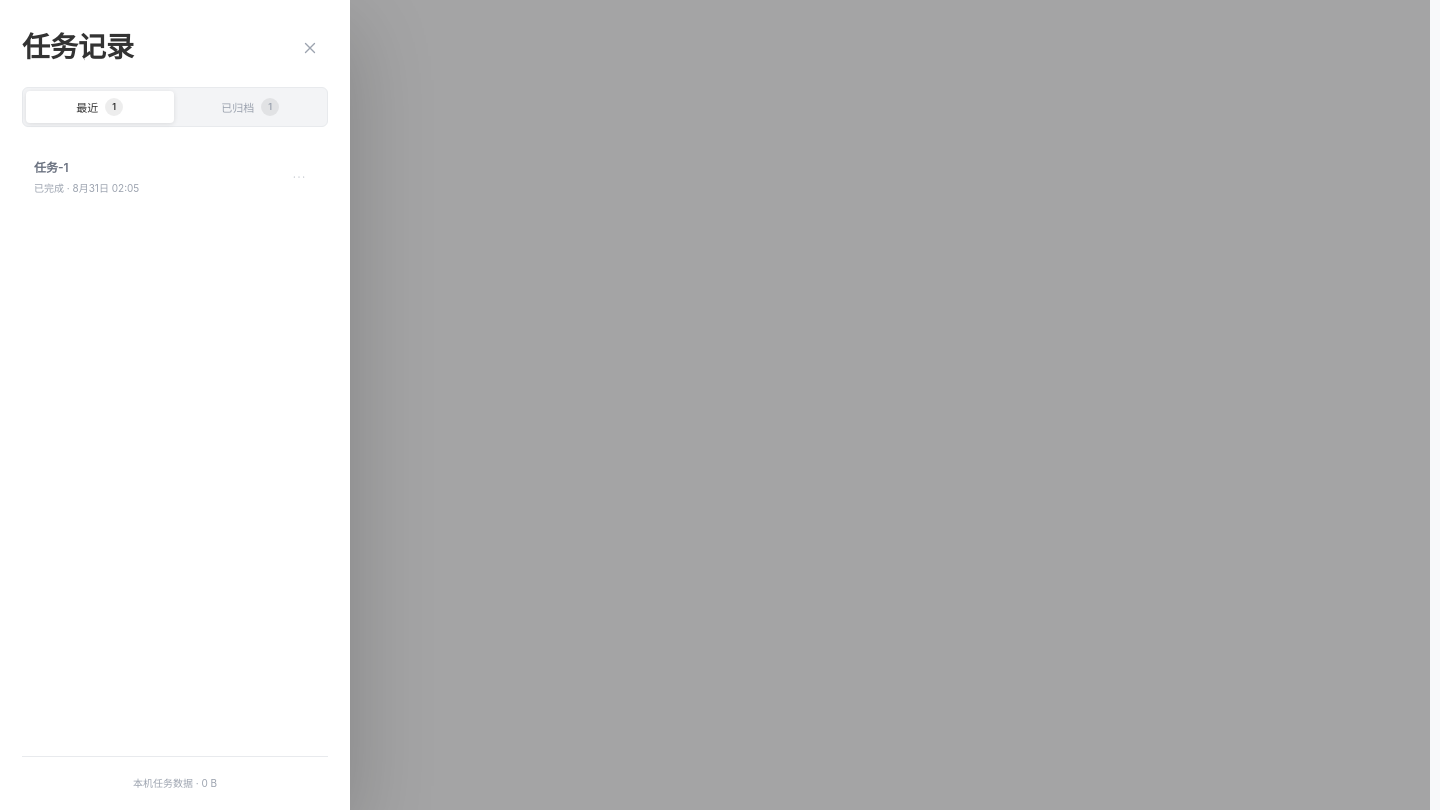
it: 归档与恢复 › 恢复：archived tab 下 POST /api/jobs/{id}/restore + 恢复 toast
Expected: the text "任务-1" is shown, 34,160 -> 69,175
Click the tab "已归档 1" at {"x": 250, "y": 107}, box 176,91 -> 324,123
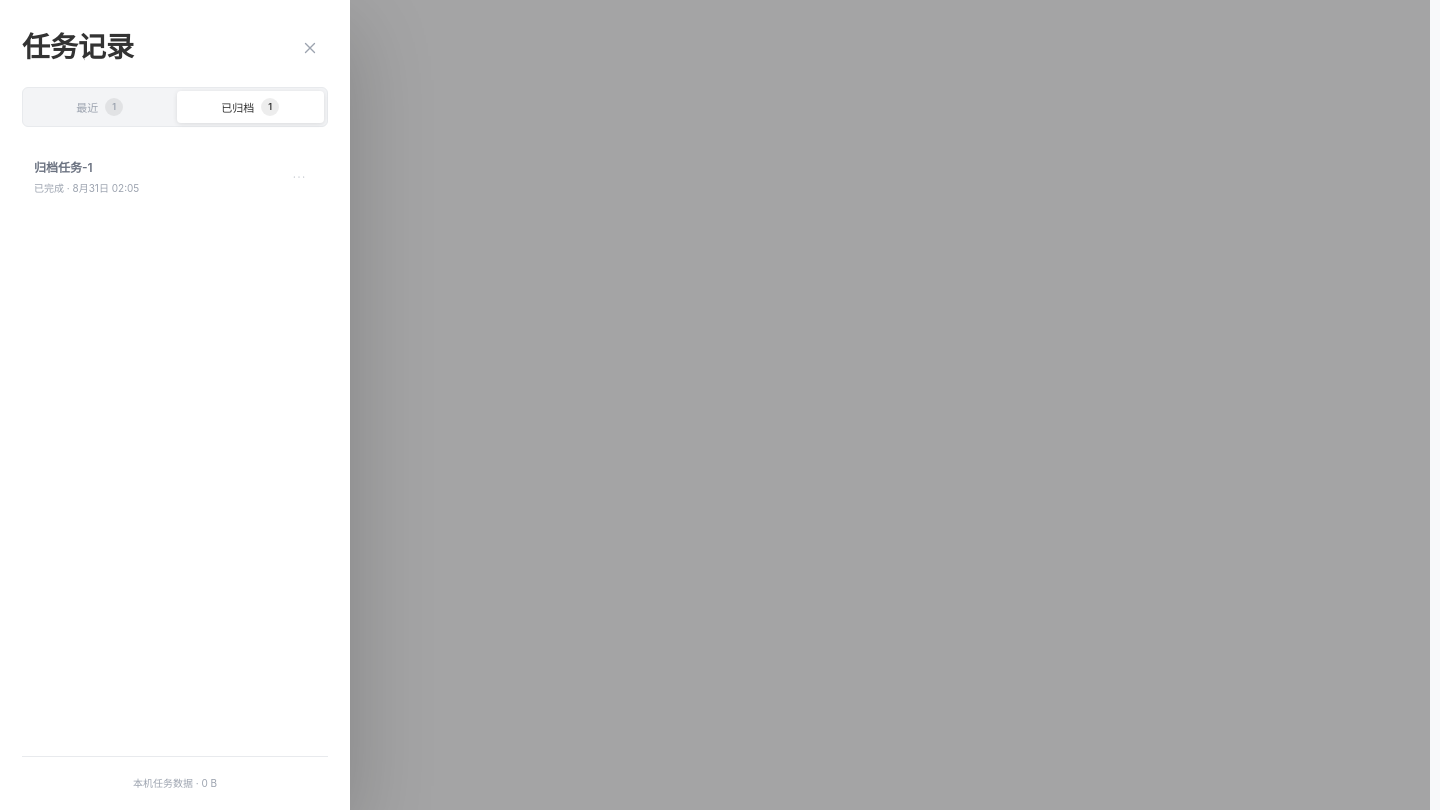
Expected: the text "归档任务-1" is shown, 34,160 -> 93,175
Click the button named "更多操作" at {"x": 299, "y": 177}, box 284,162 -> 314,192
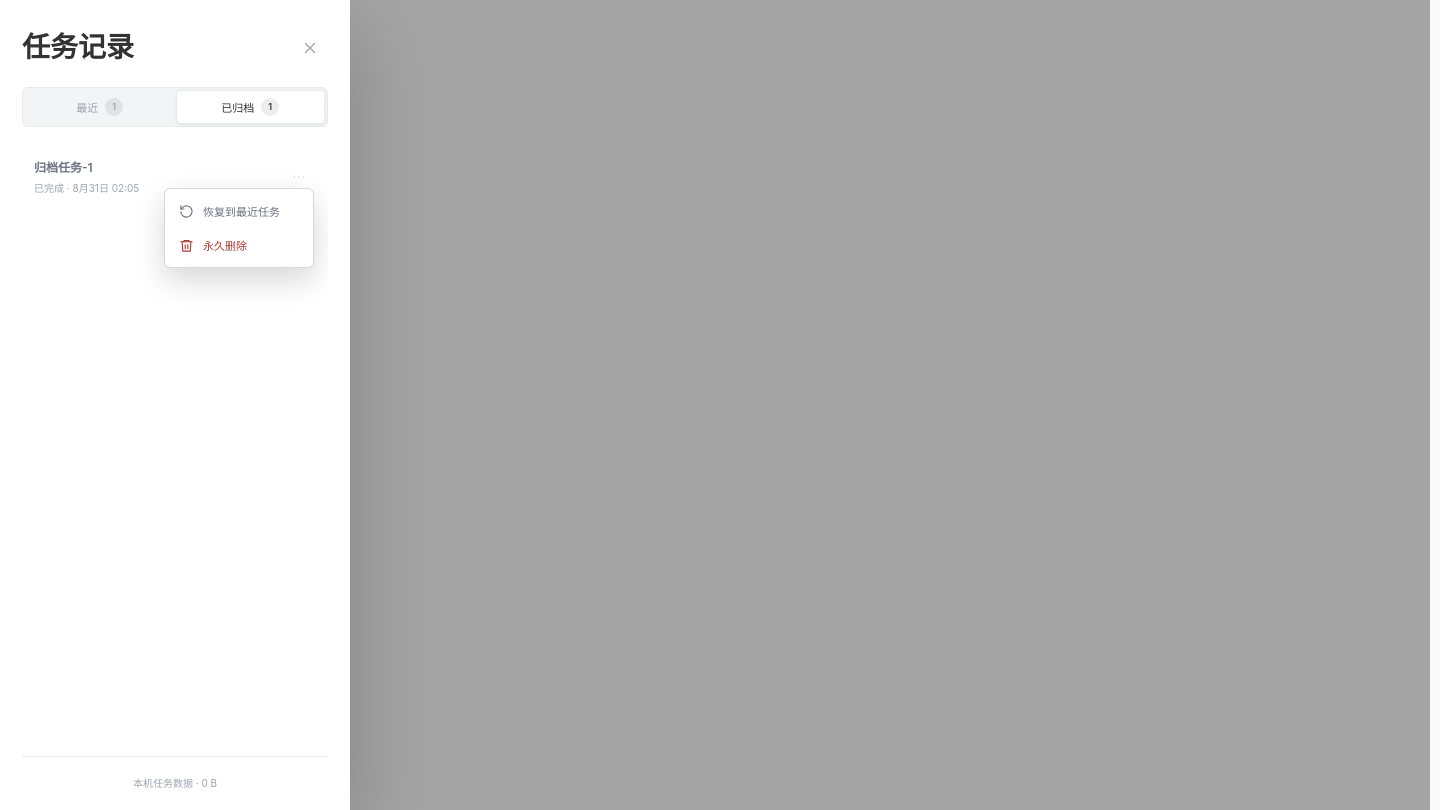
Click the menu item "恢复到最近任务" at {"x": 239, "y": 211}, box 170,194 -> 308,228
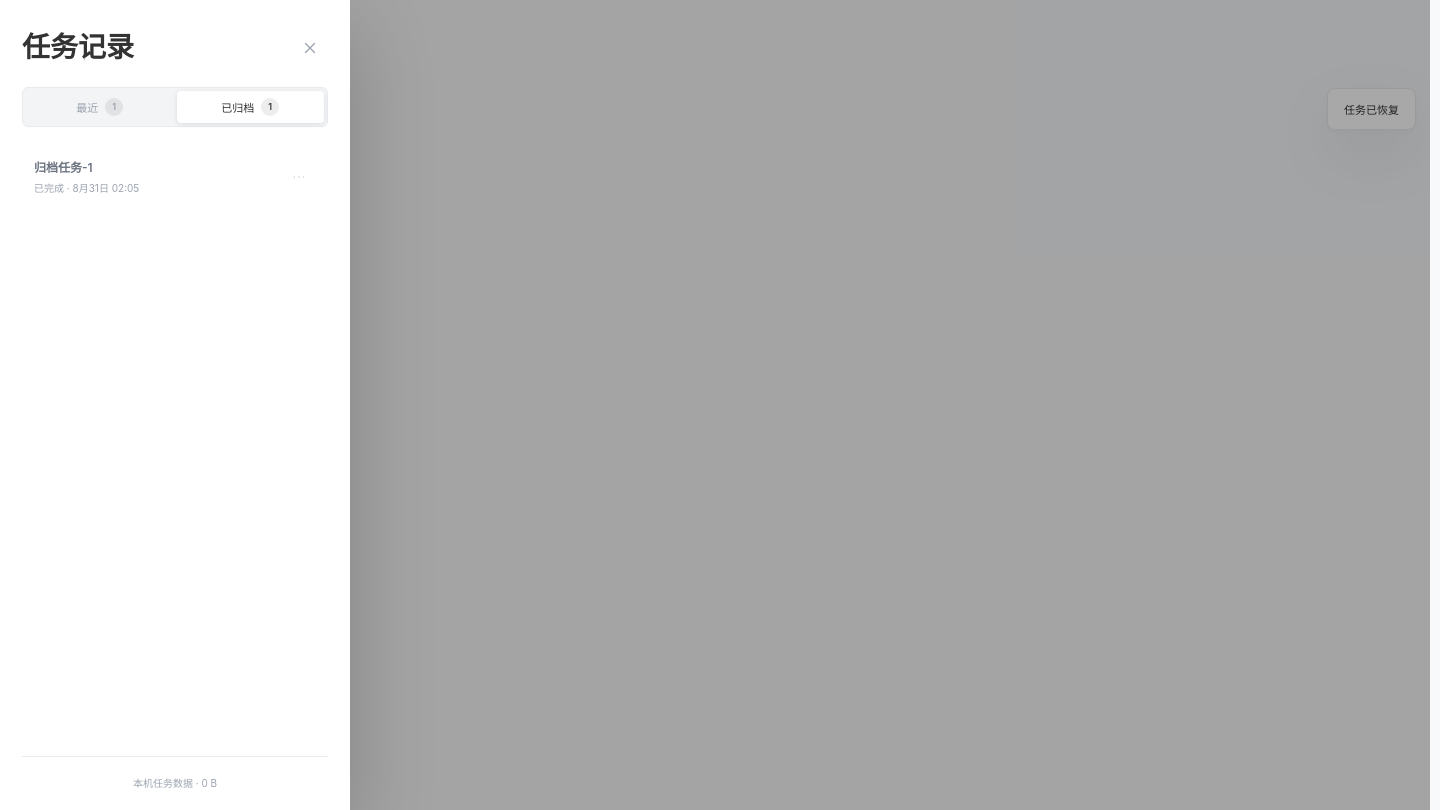
Expected: the text "任务已恢复" is shown, 1327,88 -> 1416,130
